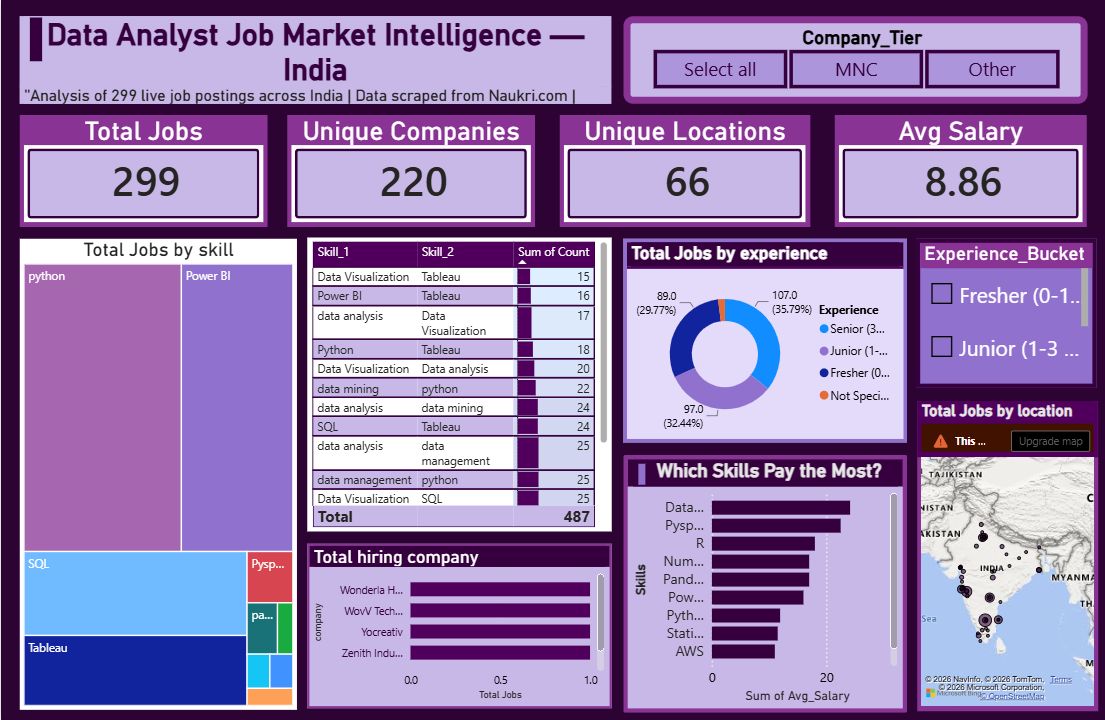

This screenshot's page, from the dashboard's own definition file:
{"tool":"powerbi","page":{"name":"Page 1","canvas":[1264,825],"ordinal":0},"visuals":[{"type":"cardVisual","title":"Total Jobs","fields":{"Data":["analysis_ready_final.Total Jobs"]},"box":[21.7,131.7,283.3,128.3],"z":0},{"type":"cardVisual","title":"Avg Salary","fields":{"Data":["analysis_ready_final.Avg Salary"]},"box":[953.3,131.7,288.3,128.3],"z":1000},{"type":"cardVisual","title":"Unique Locations","fields":{"Data":["analysis_ready_final.Unique Locations"]},"box":[638.3,131.7,286.7,128.3],"z":2000},{"type":"cardVisual","title":"Unique Companies","fields":{"Data":["analysis_ready_final.Unique Companies"]},"box":[326.7,131.7,283.3,128.3],"z":3000},{"type":"treemap","fields":{"Group":["analysis_ready_final.skill"],"Values":["analysis_ready_final.Total Jobs"]},"box":[21.4,272.9,317.1,538.6],"z":4000},{"type":"clusteredBarChart","title":"Which Skills Pay the Most?","fields":{"Category":["skill_salary.Skill"],"Y":["Sum(skill_salary.Avg_Salary)"]},"box":[712,520,324,294],"z":5000},{"type":"map","title":"Total Jobs by location","fields":{"Category":["analysis_ready_final.primary_location"],"Size":["analysis_ready_final.Total Jobs"]},"box":[1046.7,458.9,206.7,353.3],"z":6000},{"type":"tableEx","title":"Top Skill Combinations in Job Postings","fields":{"Values":["skill_pairs.Skill_1","skill_pairs.Skill_2","Sum(skill_pairs.Count)"]},"box":[350,272,348,336],"z":7000},{"type":"donutChart","title":"     Total Jobs by experience","fields":{"Category":["analysis_ready_final.experience_bucket"],"Y":["analysis_ready_final.Total Jobs"]},"box":[711.4,272.9,324.3,232.9],"z":8000},{"type":"slicer","title":"Experience_Bucket","fields":{"Values":["analysis_ready_final.experience_bucket"]},"box":[1046.2,272.5,206.2,170],"z":9000},{"type":"slicer","title":"Company_Tier","fields":{"Values":["analysis_ready_final.company_tier"]},"box":[711.7,18.3,530,100],"z":10000},{"type":"textbox","title":"Data Analyst Job Market Intelligence — India ","box":[22,18,676,100],"z":11000},{"type":"clusteredBarChart","title":"Total  hiring company","fields":{"Category":["analysis_ready_final.company"],"Y":["analysis_ready_final.Total Jobs"]},"box":[350,622,348,188],"z":12000},{"type":"textbox","title":"Analysis of 299 live job postings across India | Data scraped from Naukri.com | ","box":[22,98,676,20],"z":13000},{"type":"shape","box":[0,20,80,50],"z":14000},{"type":"shape","box":[712,530,42,24],"z":15000}]}

Visuals, with their boxes in screenshot pixels (x1, y1, x2, y2), scaled from the page's 1264x825 canvas onto the 1105x720 screenshot:
"Total Jobs" cardVisual: region(19, 115, 267, 227)
"Avg Salary" cardVisual: region(833, 115, 1085, 227)
"Unique Locations" cardVisual: region(558, 115, 809, 227)
"Unique Companies" cardVisual: region(286, 115, 533, 227)
treemap - analysis_ready_final.skill x analysis_ready_final.Total Jobs: region(19, 238, 296, 708)
"Which Skills Pay the Most?" clusteredBarChart: region(622, 454, 906, 710)
"Total Jobs by location" map: region(915, 400, 1096, 709)
"Top Skill Combinations in Job Postings" tableEx: region(306, 237, 610, 531)
"     Total Jobs by experience" donutChart: region(622, 238, 905, 441)
"Experience_Bucket" slicer: region(915, 238, 1095, 386)
"Company_Tier" slicer: region(622, 16, 1086, 103)
"Data Analyst Job Market Intelligence — India " textbox: region(19, 16, 610, 103)
"Total  hiring company" clusteredBarChart: region(306, 543, 610, 707)
"Analysis of 299 live job postings across India | Data scraped from Naukri.com | " textbox: region(19, 86, 610, 103)
shape: region(0, 17, 70, 61)
shape: region(622, 463, 659, 483)
